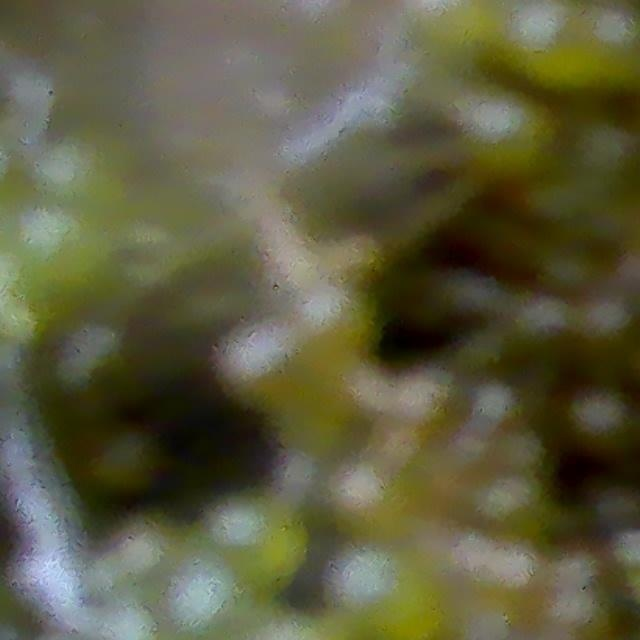SeaGrape: (163, 553, 245, 636), (86, 423, 162, 497), (246, 520, 311, 586), (208, 493, 271, 552), (566, 384, 620, 444), (95, 600, 159, 640)
